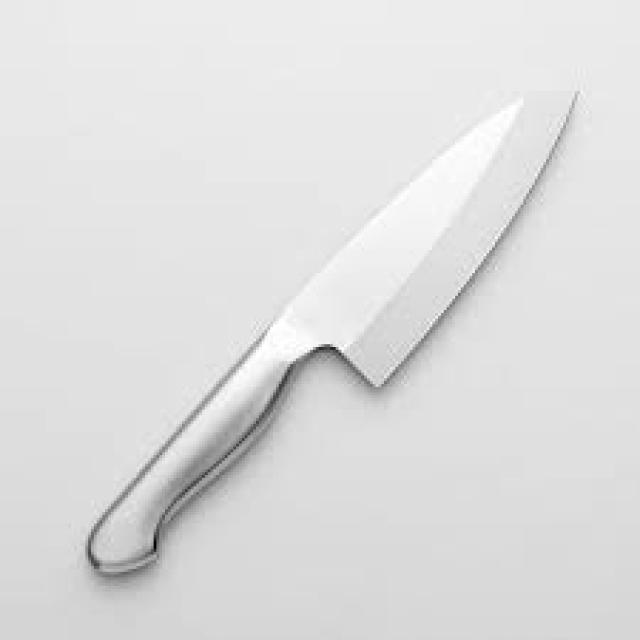Knife: (85, 86, 578, 574)
